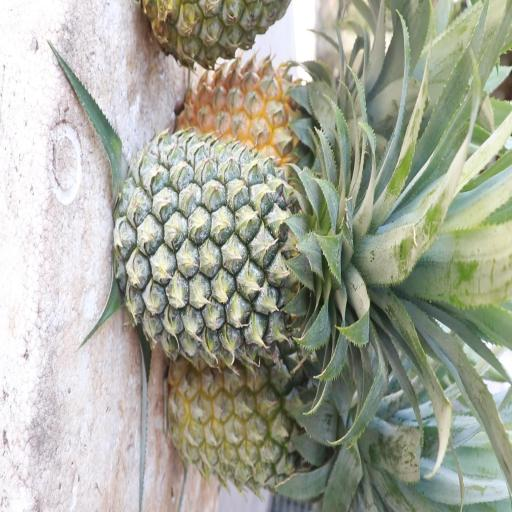------------------------------: (167, 346, 363, 492)
Pineapple - v8 v1: (182, 46, 395, 174)
